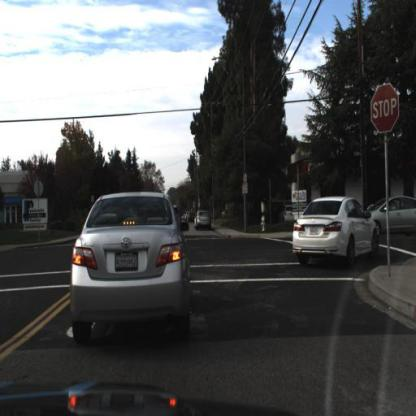car: (70, 192, 190, 350), (295, 197, 383, 267), (193, 207, 215, 232), (280, 202, 299, 227)
